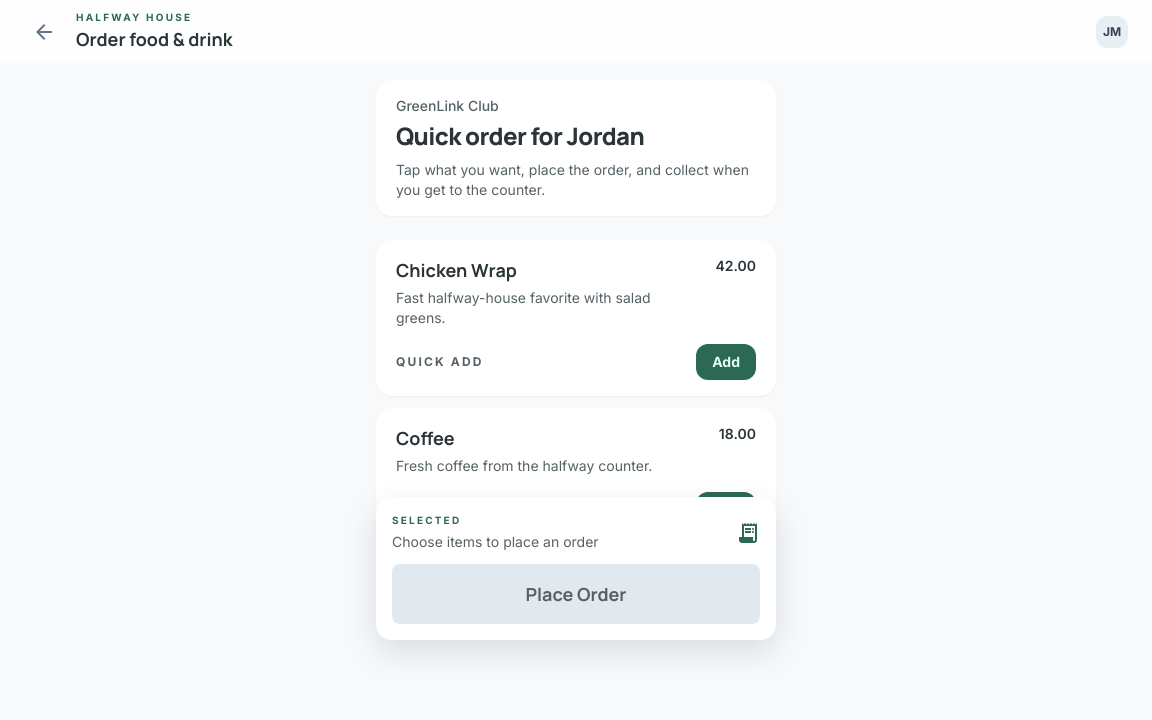
Player ordering flow › places a player order with selected quantities and shows minimal confirmation
The image size is (1152, 720).
Expected: the heading "Chicken Wrap" is shown, [396, 258, 517, 282]
Click the button with aria-label "add chicken wrap".
click(726, 362)  # box [696, 344, 756, 380]
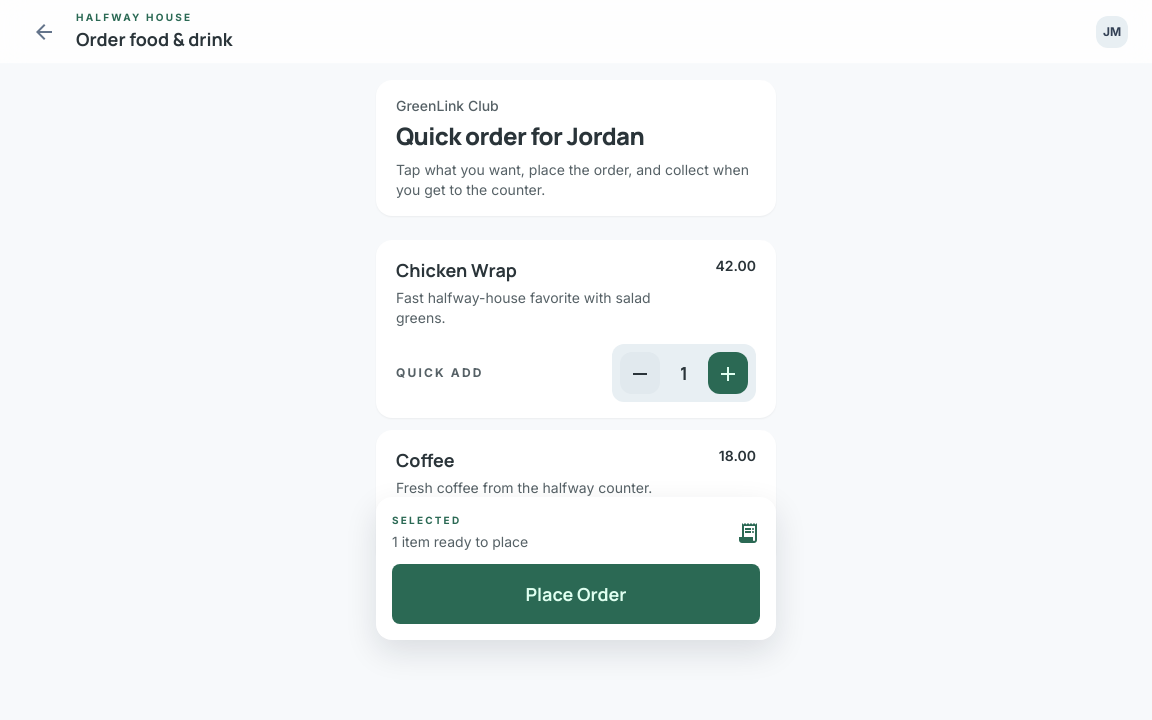
Click the button named "increase chicken wrap".
click(728, 373)  # box [708, 352, 748, 394]
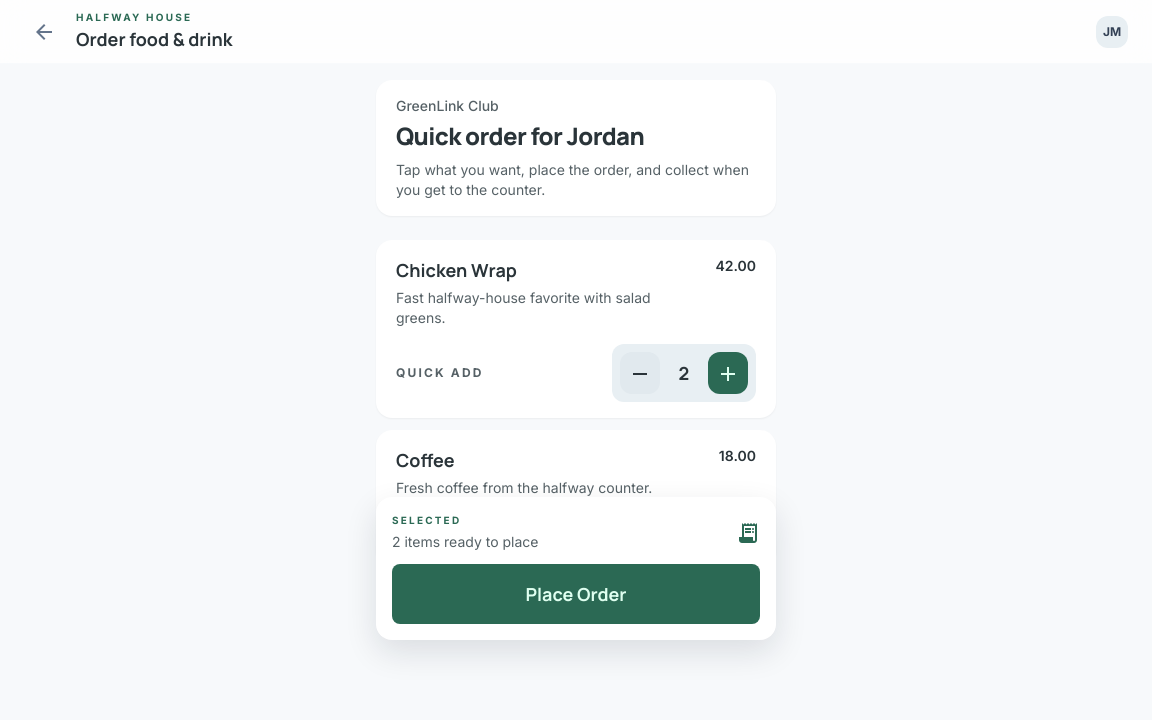
Click the button "Place Order".
click(576, 594)  # box [392, 564, 760, 624]
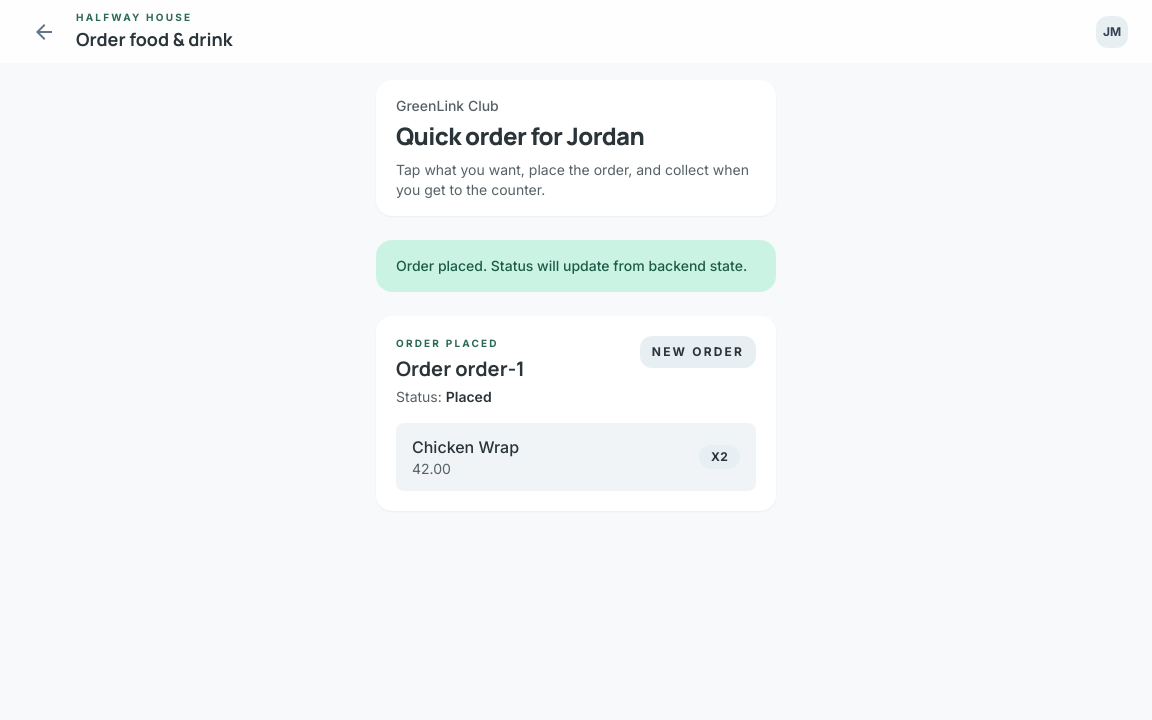
Expected: the text "Order placed. Status will update from backend state." is shown, [376, 240, 776, 292]
Expected: the heading "Order order-1" is shown, [396, 355, 525, 383]
Expected: the text "Status: placed" is shown, [396, 388, 492, 405]
